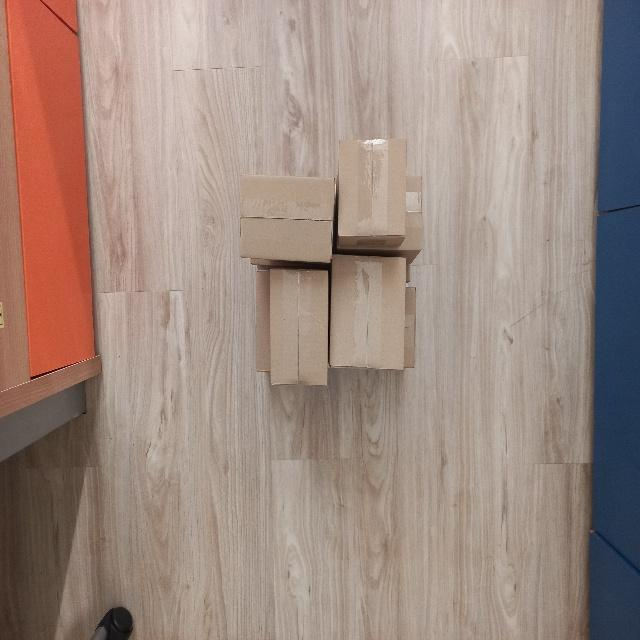box: (331, 251, 409, 373), (236, 172, 336, 267), (334, 134, 406, 250), (266, 263, 330, 389)
